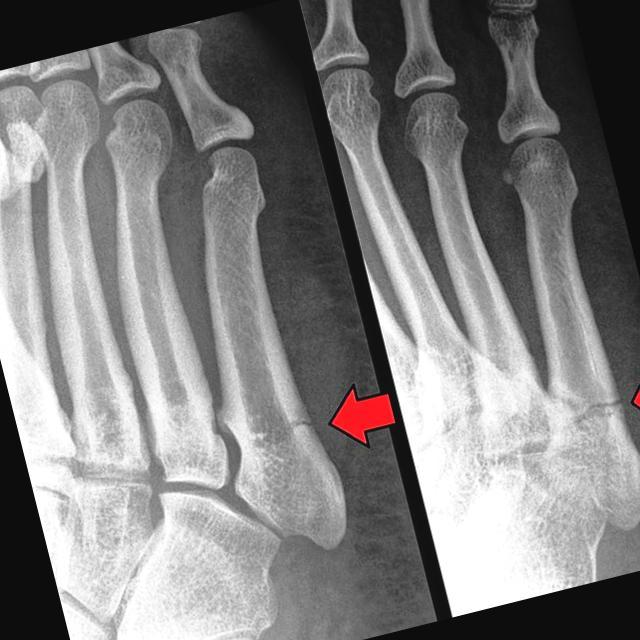HairLine Fracture: (577, 386, 622, 428), (259, 415, 313, 440)
